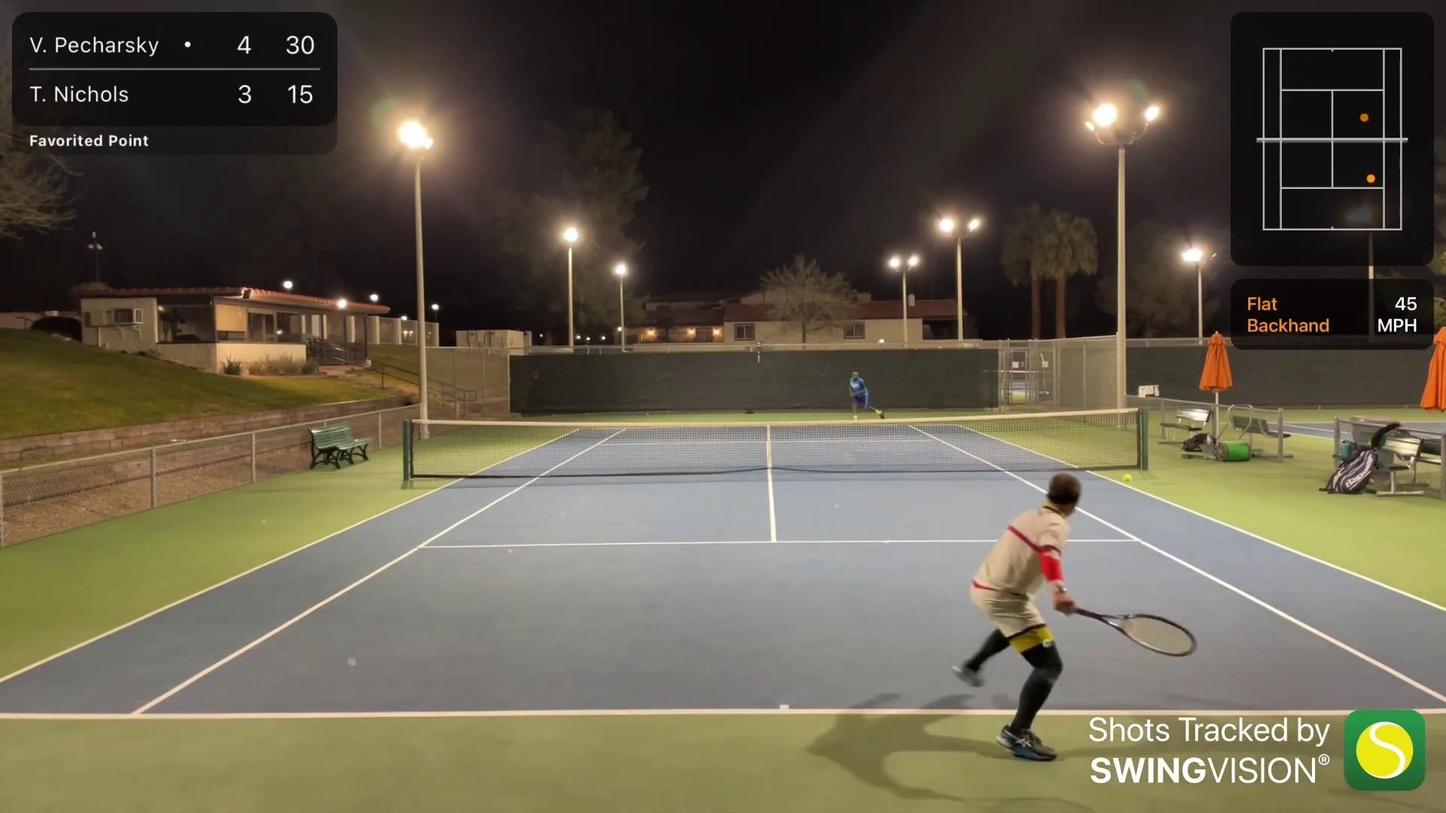ball: (1119, 473, 1136, 486), (872, 408, 876, 411)
